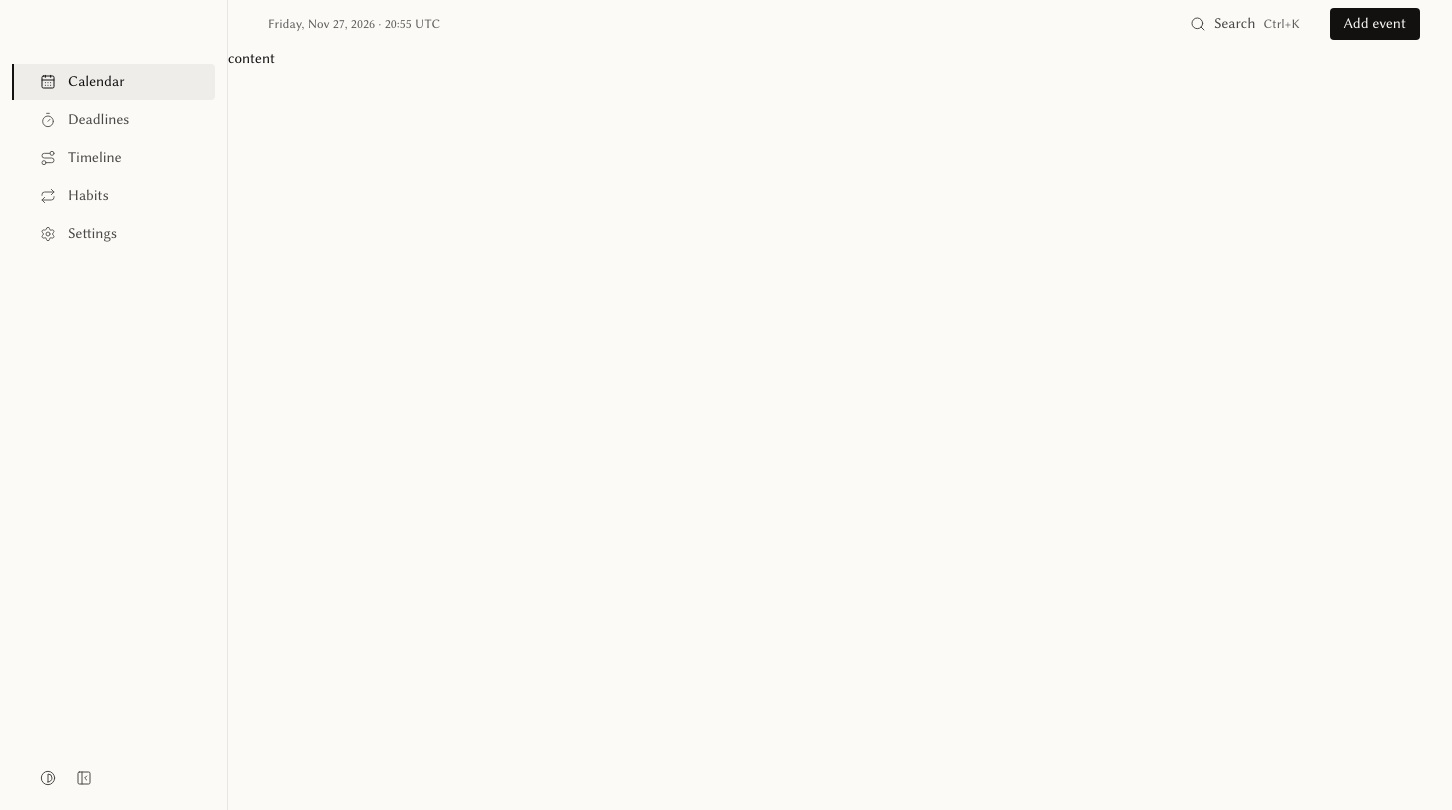
Test case: AppShell anatomy (DESIGN.md section 7) › offers the Appearance menu with Light, Dark and System in the sidebar footer
The width and height of the screenshot is (1452, 810).
Click the button named "Appearance" at coordinates (48, 778), box x1=32 y1=762 x2=64 y2=794
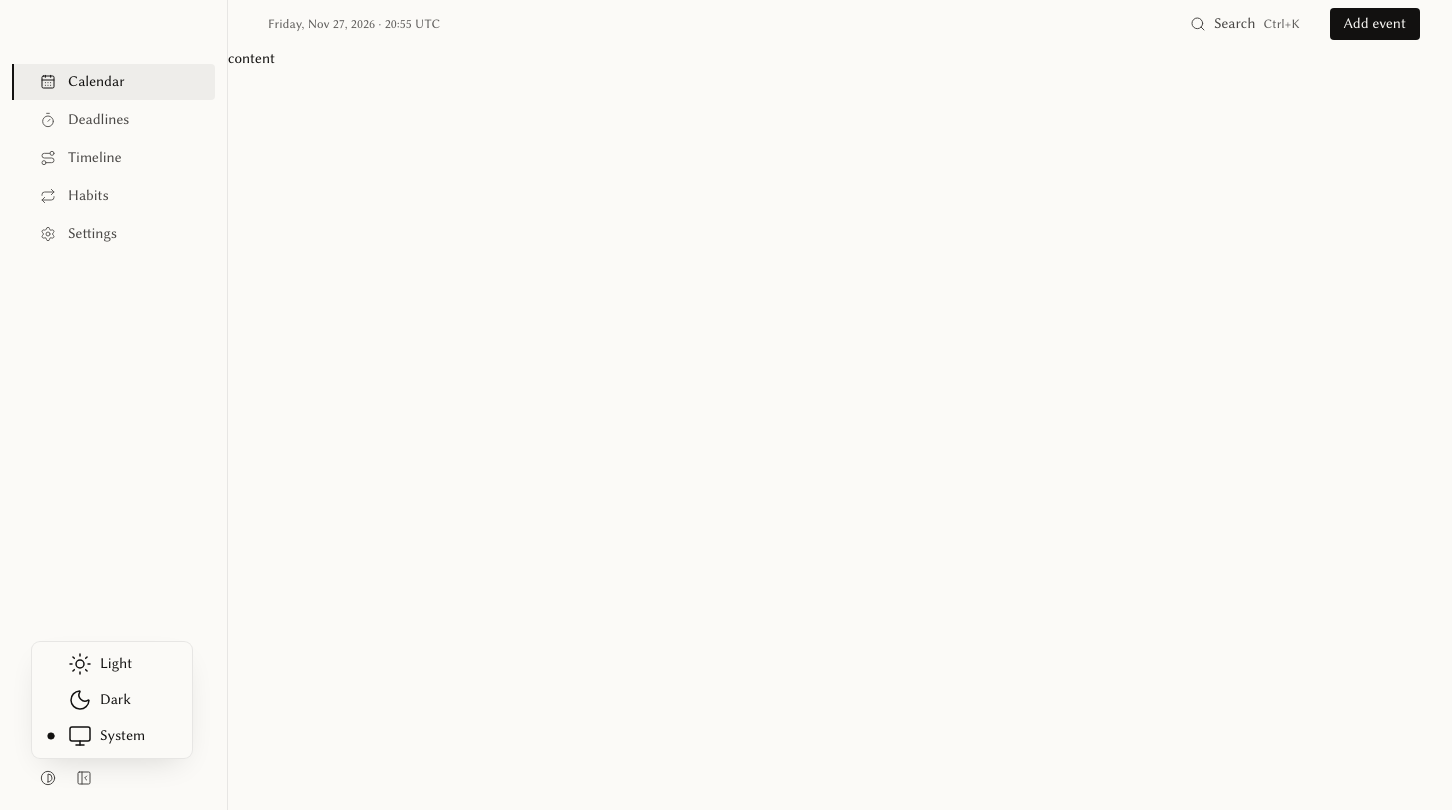
Expected: the menu item "Light" is shown, x1=68 y1=652 x2=132 y2=676
Expected: the menu item "Dark" is shown, x1=68 y1=688 x2=131 y2=712
Expected: the menu item "System" is shown, x1=47 y1=724 x2=145 y2=748
